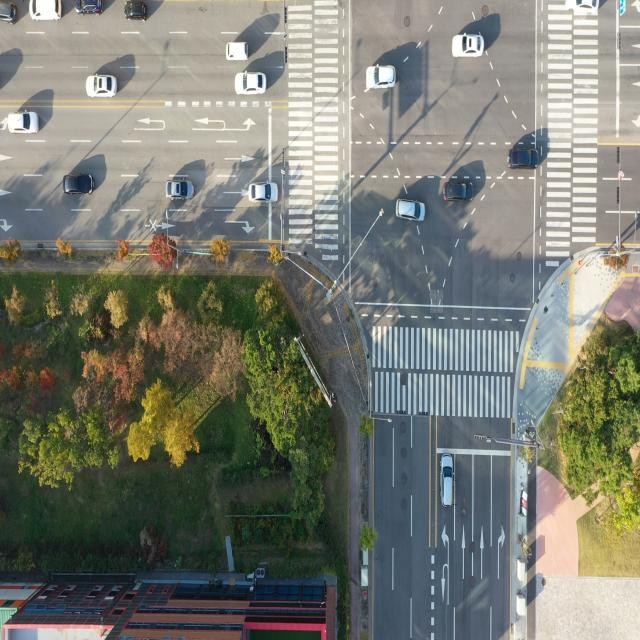car: (8, 107, 42, 137), (366, 61, 398, 92), (453, 28, 485, 58), (85, 73, 118, 102), (508, 143, 543, 169), (63, 171, 94, 197), (442, 454, 456, 509), (28, 0, 63, 22), (234, 72, 266, 95), (443, 178, 471, 202), (166, 180, 195, 203), (396, 200, 424, 223), (248, 180, 277, 202), (121, 0, 150, 21), (226, 41, 250, 63), (74, 0, 106, 15), (0, 3, 20, 23)
